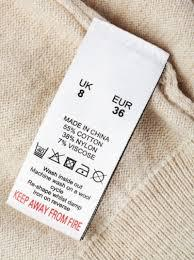DN_bleach: (49, 147, 62, 165)
DN_dry_clean: (91, 168, 108, 185)
DN_tumble_dry: (64, 155, 77, 172)
iron_low: (75, 162, 91, 178)
machine_wash: (33, 139, 49, 161)
